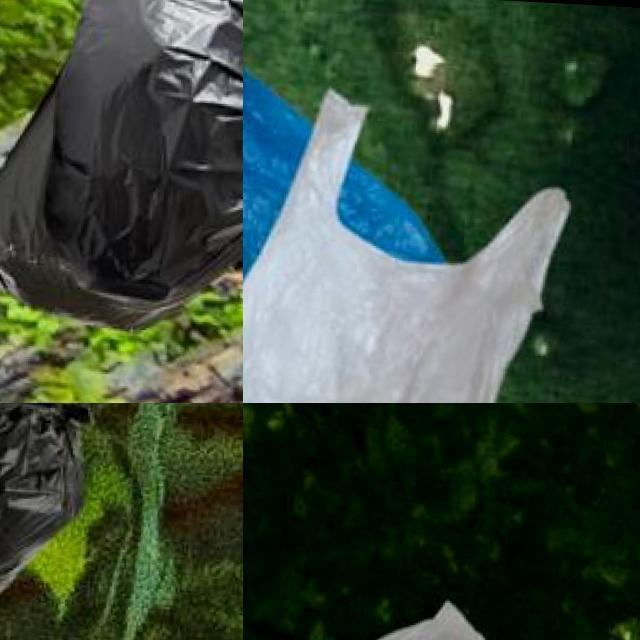waste: (243, 83, 570, 403), (0, 0, 243, 327), (243, 35, 458, 394), (0, 403, 93, 614)
